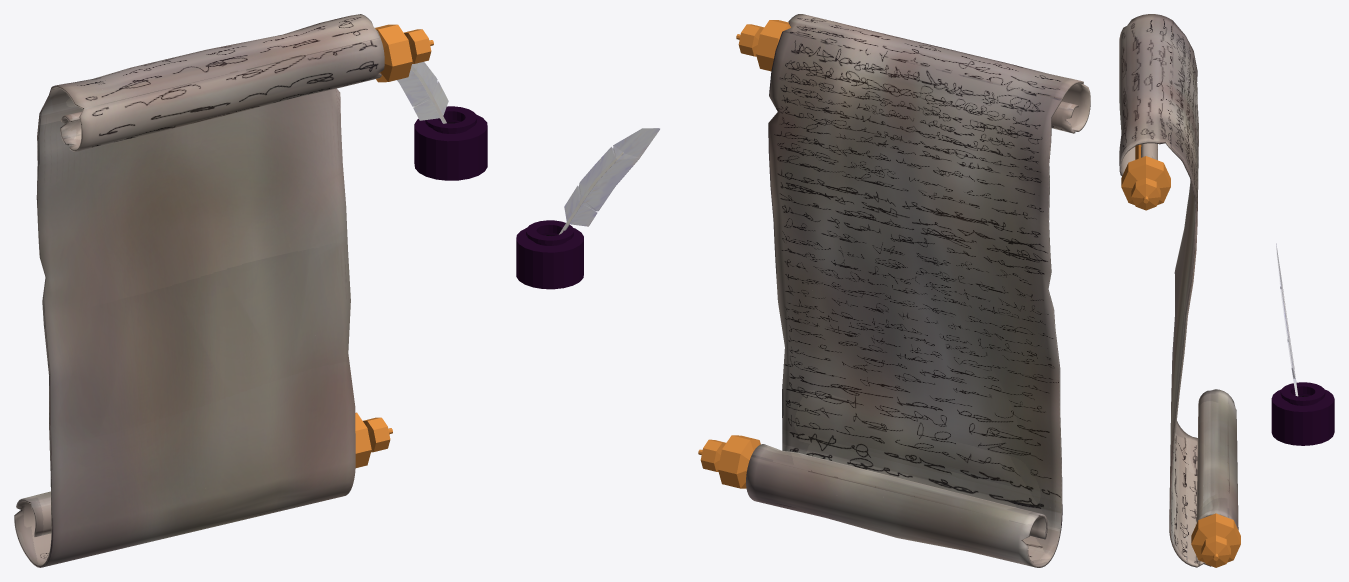
The model's file is Textual rhetoric.dae.
The picture shows the model from 3 angles, left to right: view 1: azimuth 30°, elevation 25°; view 2: azimuth 150°, elevation 25°; view 3: azimuth 270°, elevation 25°; orthographic projection. The views are drawn at different scales.
Visible parts, largest first — view 1: Paper, Ink, Cylinder, Feather, Cylinder.002; view 2: Paper, Ink, Feather, Cylinder.002, Cylinder; view 3: Paper, Ink, Cylinder, Cylinder.002, Feather.
Part boxes in pixels (box(x1,y1,x2,y2)): Paper: box(14, 14, 384, 567); Ink: box(414, 106, 487, 180); Cylinder: box(375, 24, 433, 82); Feather: box(397, 62, 448, 123); Cylinder.002: box(355, 412, 392, 467); Paper: box(746, 14, 1090, 567); Ink: box(516, 220, 583, 289); Feather: box(559, 128, 659, 234); Cylinder.002: box(698, 435, 760, 488); Cylinder: box(736, 20, 790, 71); Paper: box(1119, 14, 1238, 567); Ink: box(1271, 382, 1334, 445); Cylinder: box(1121, 144, 1170, 210); Cylinder.002: box(1191, 513, 1240, 567); Feather: box(1276, 243, 1298, 396).
Size of the model in its own units: 2.39 by 1.02 by 2.25.
